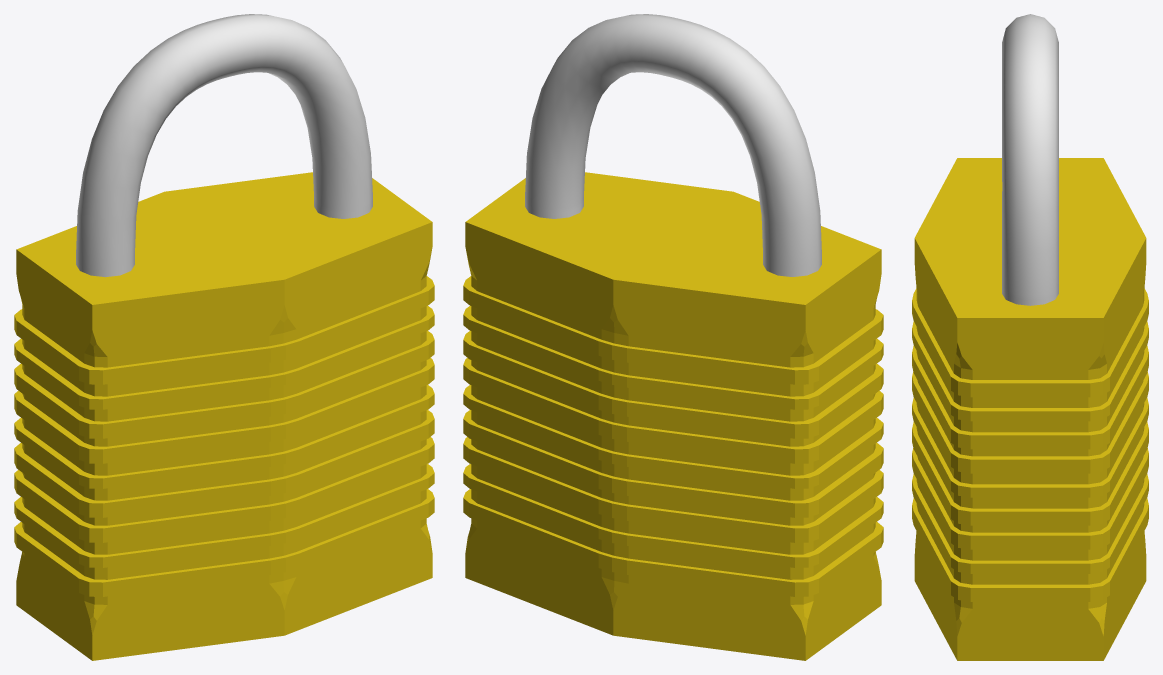
File: lock.fbx
3 renders of one model, left to right at view 1: azimuth 30°, elevation 25°; view 2: azimuth 150°, elevation 25°; view 3: azimuth 270°, elevation 25°, orthographic. The views are drawn at different scales.
Visible parts, largest first — view 1: Cube, BézierCurve; view 2: Cube, BézierCurve; view 3: Cube, BézierCurve.
Part boxes in pixels (x1=…): Cube: x1=14, y1=172, x2=434, y2=660; BézierCurve: x1=76, y1=14, x2=372, y2=277; Cube: x1=463, y1=172, x2=883, y2=660; BézierCurve: x1=525, y1=14, x2=821, y2=276; Cube: x1=912, y1=158, x2=1148, y2=660; BézierCurve: x1=1002, y1=14, x2=1058, y2=305.
Bounding box in the file's own units: 208 × 321 × 125.
